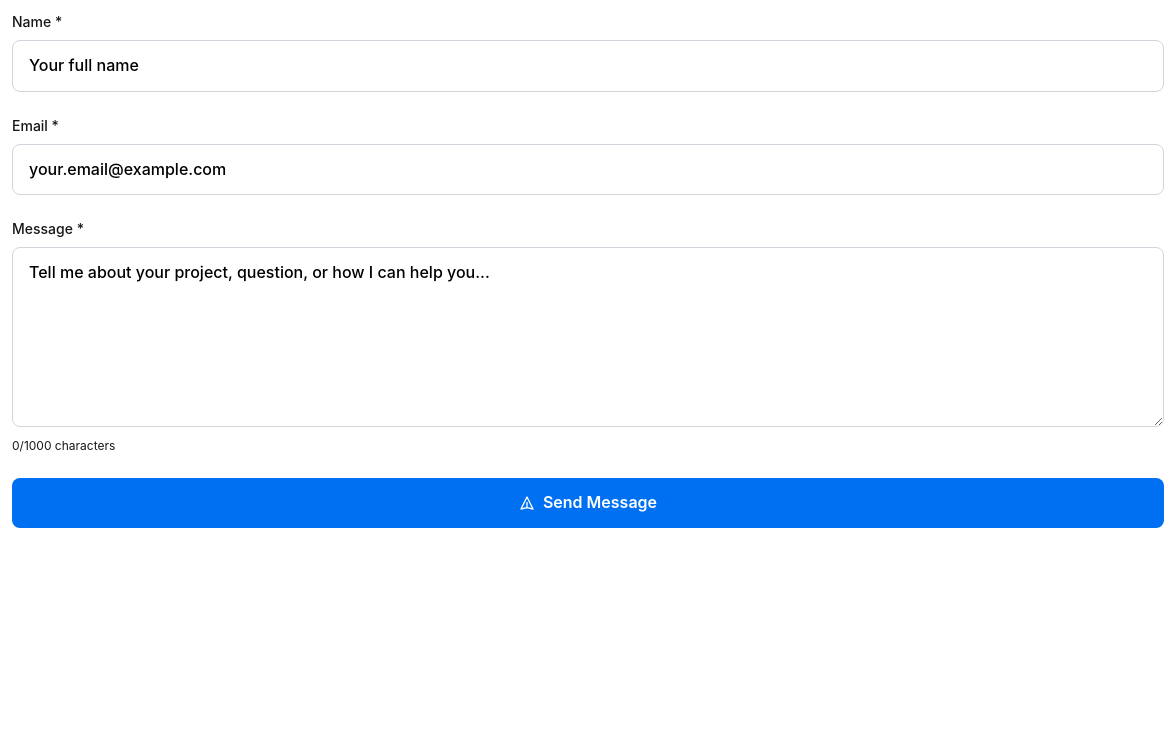
Test: Contact Form Property Tests › should clear validation errors when user corrects input
The image size is (1176, 732).
Note: Submit empty form to trigger validation errors
Click the button "Send Message". click: (588, 503)
box: 12,478 -> 1164,528
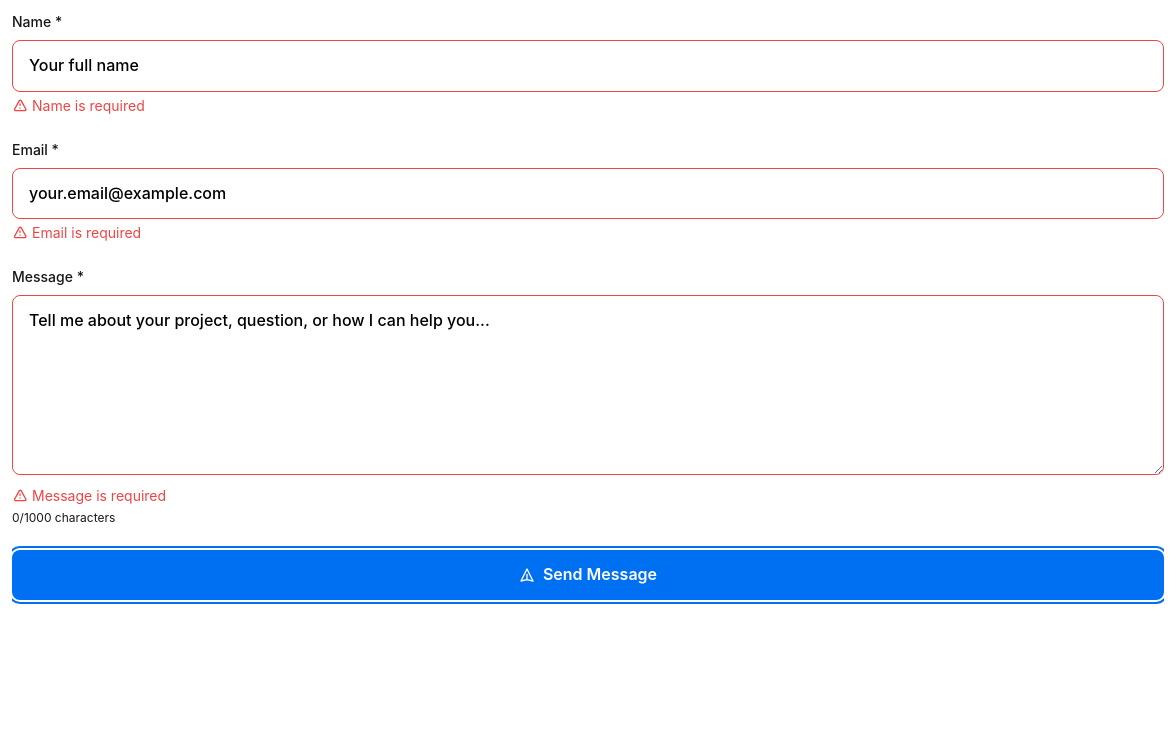
Now the text "Name is required" is shown, box 12,97 -> 145,114
Now the text "Email is required" is shown, box 12,224 -> 141,241
Now the text "Message is required" is shown, box 12,487 -> 166,504
Note: Start typing valid input
Type "John Doe" into the field labelled "Name *". click: (588, 66)
box: 12,40 -> 1164,92
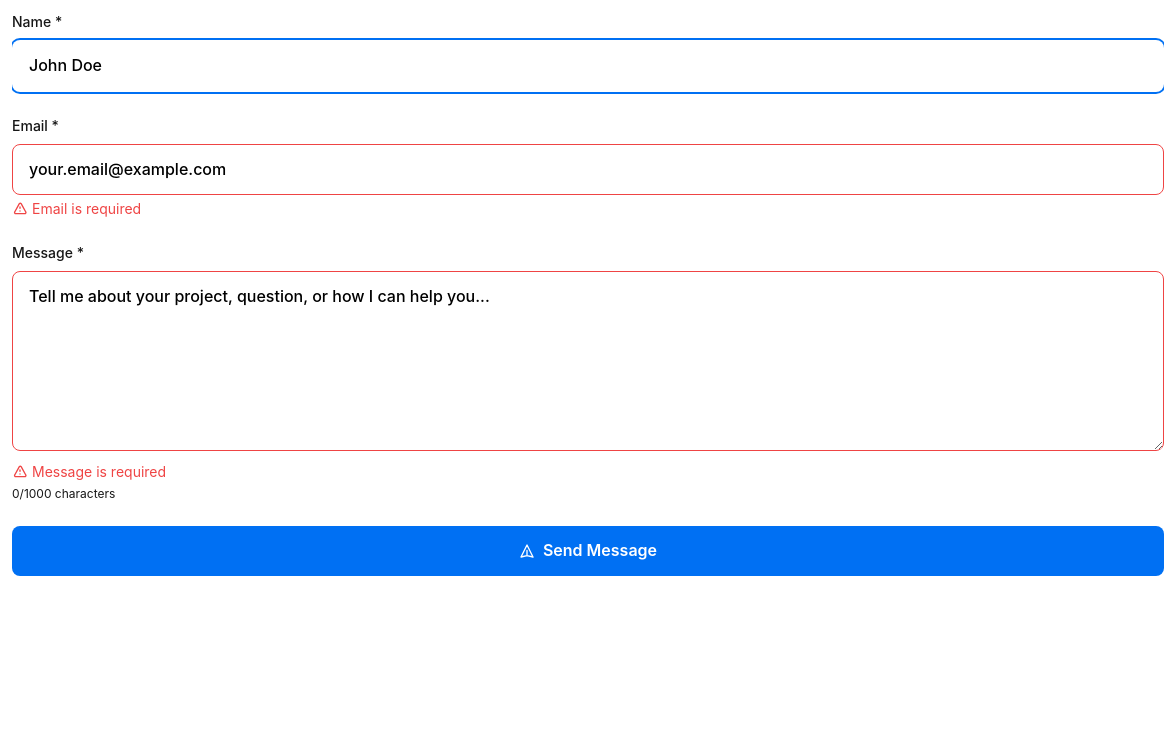
Now the text "Email is required" is shown, box 12,200 -> 141,217
Now the text "Message is required" is shown, box 12,463 -> 166,480
Now the text "Name is required" is gone
